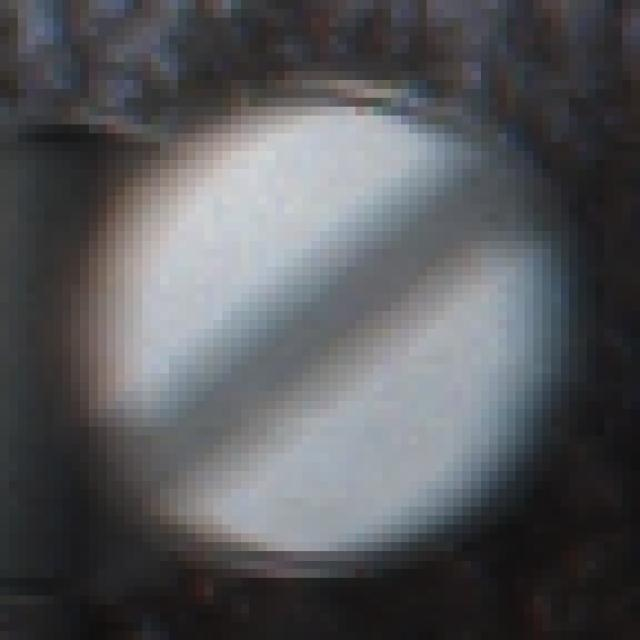restriction ends: (68, 87, 557, 561)
